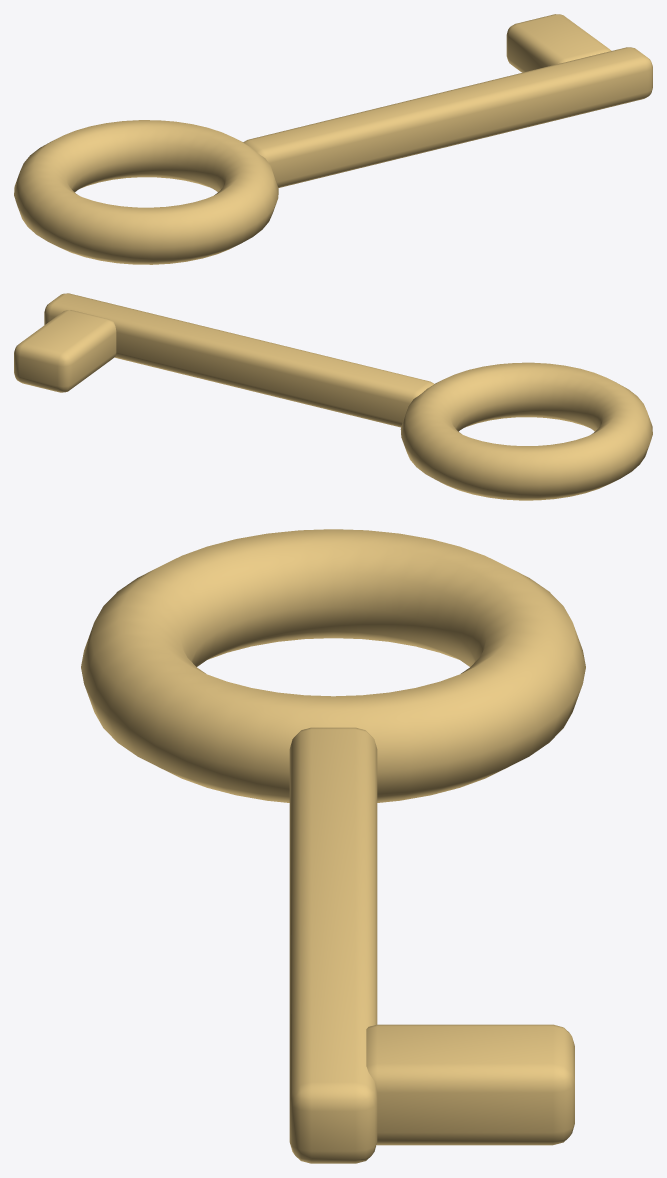
Rendered from key.glb.
The picture shows the model from 3 angles, top to bottom: view 1: azimuth 30°, elevation 25°; view 2: azimuth 150°, elevation 25°; view 3: azimuth 270°, elevation 25°; orthographic projection. The views are drawn at different scales.
Visible parts, largest first — view 1: bow, shaft, bit; view 2: bow, shaft, bit; view 3: bow, shaft, bit.
Boxes of the visible parts, x1,y1,x2,y2 form: bow: [14, 120, 278, 264]; shaft: [243, 47, 652, 187]; bit: [506, 14, 611, 72]; bow: [400, 362, 652, 500]; shaft: [44, 293, 434, 427]; bit: [14, 310, 116, 392]; bow: [81, 529, 585, 802]; shaft: [289, 727, 377, 1163]; bit: [366, 1024, 574, 1145].
Size of the model in its own units: 0.123 by 0.00951 by 0.046.
